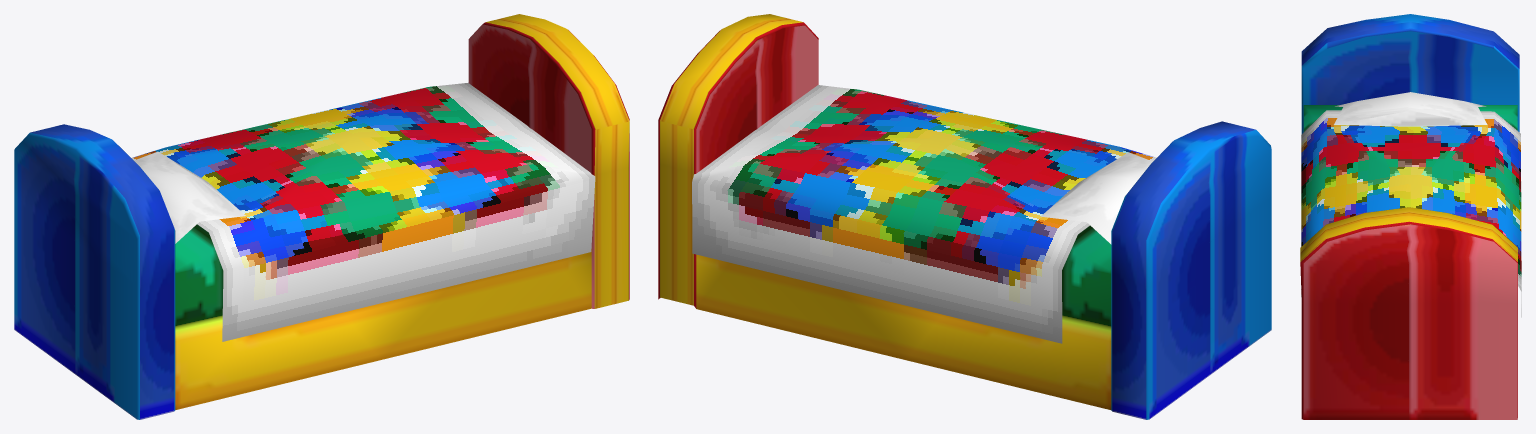
File: rmk_col_bedS.dae
3 renders of one model, left to right at view 1: azimuth 30°, elevation 25°; view 2: azimuth 150°, elevation 25°; view 3: azimuth 270°, elevation 25°, orthographic. The views are drawn at different scales.
Visible parts, largest first — view 1: rmk_col_bedS; view 2: rmk_col_bedS; view 3: rmk_col_bedS.
Part boxes in pixels (x1=…): rmk_col_bedS: x1=14, y1=14, x2=629, y2=419; rmk_col_bedS: x1=658, y1=14, x2=1271, y2=419; rmk_col_bedS: x1=1300, y1=14, x2=1521, y2=419.
Size of the model in its own units: 61.9 by 27.2 by 27.64.
2 materials, 2 textured.
